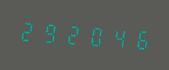four: (106, 21, 127, 52)
nine: (39, 16, 60, 48)
six: (128, 23, 149, 54)
two: (17, 15, 38, 46), (62, 18, 83, 49)
zero: (84, 20, 105, 51)
